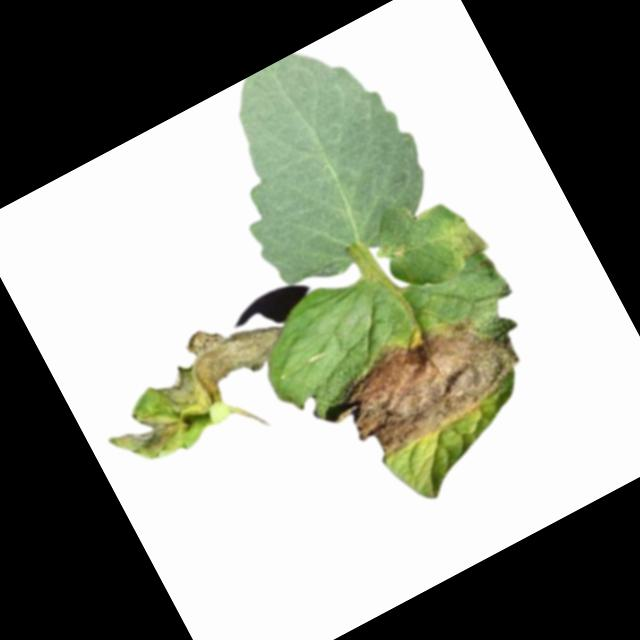Late_blight: (308, 292, 534, 478), (84, 296, 310, 479), (427, 206, 494, 276)
